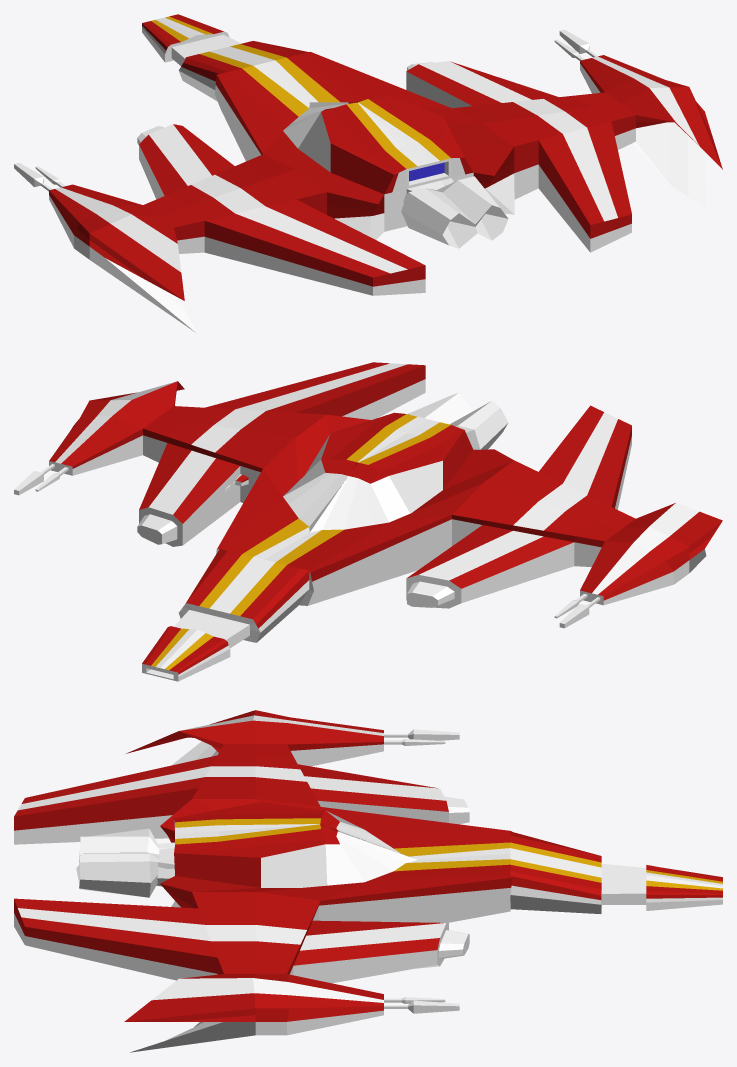
File: SpaceShipUpgraded.fbx
3 views of the same model, one above another, from view 1: azimuth 30°, elevation 25°; view 2: azimuth 150°, elevation 25°; view 3: azimuth 270°, elevation 25° (orthographic).
Parts seen in each view (by area): view 1: Cube.001; view 2: Cube.001; view 3: Cube.001.
Part boxes in pixels (<box>): Cube.001: <box>14,14,722,333</box>; Cube.001: <box>14,362,722,681</box>; Cube.001: <box>14,710,722,1052</box>.
Size of the model in its own units: 1005 by 161 by 1010.
